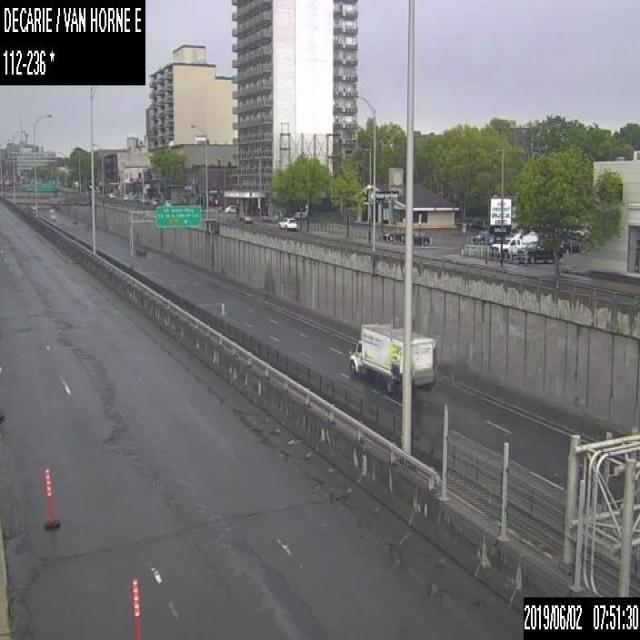construction: (43, 466, 60, 530), (130, 576, 143, 639)
vehicle: (347, 321, 437, 392), (490, 228, 537, 256), (517, 240, 562, 262), (400, 230, 428, 245), (277, 214, 297, 230), (383, 230, 403, 240), (223, 203, 238, 213), (240, 212, 250, 222), (294, 210, 306, 218)
